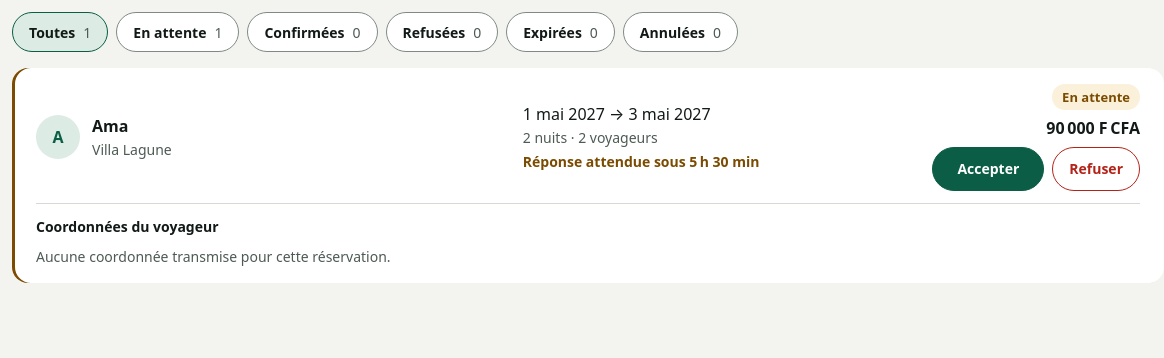
Scenario: HostBookings › accepts a pending request after confirmation
What coordinates should you click on to do the following:
click the button "Accepter"
I would click on:
 (988, 169)
Its box is [932, 147, 1044, 191].
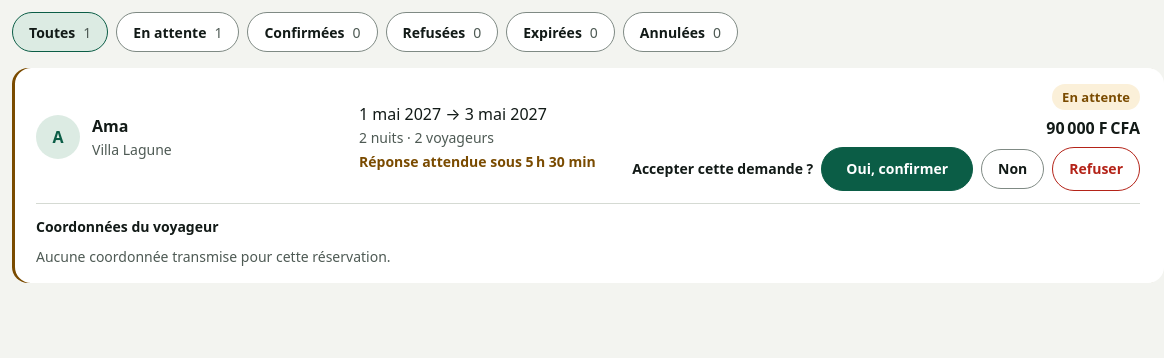
Check: the text "Accepter cette demande ?" is shown, box [632, 158, 813, 180]
What coordinates should you click on to do the following:
click the button "Oui, confirmer"
I would click on:
 (897, 169)
Its box is [821, 147, 973, 191].
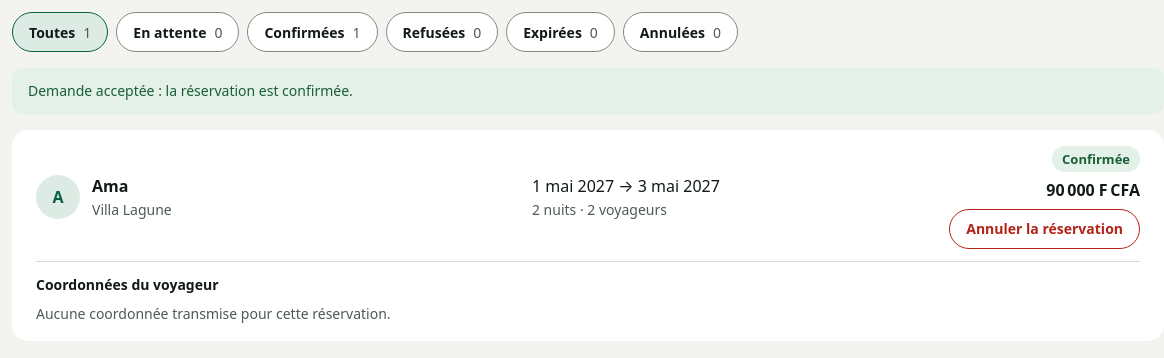
Check: the text "Demande acceptée : la réservation est confirmée." is shown, box [12, 68, 1163, 114]
Check: the text "Confirmée" is shown, box [1052, 146, 1140, 172]
